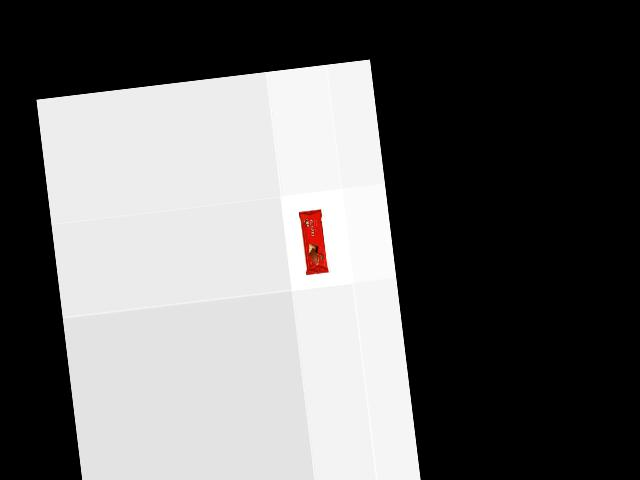chocolate: (298, 206, 329, 274)
